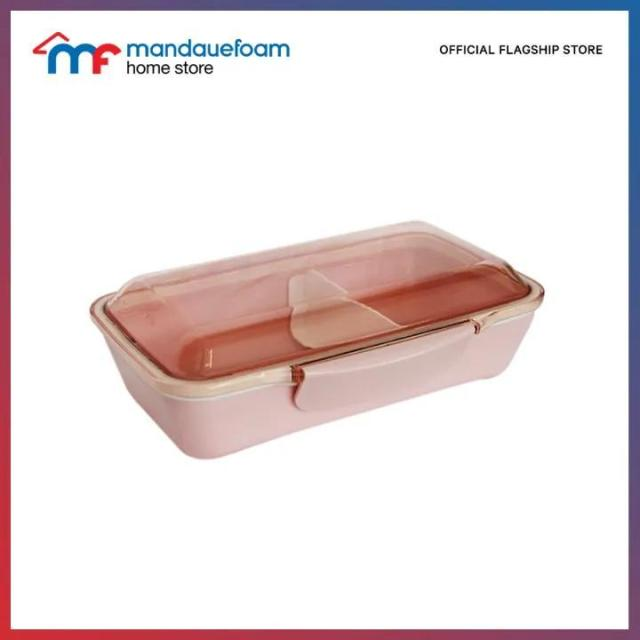styrofoam: (88, 217, 545, 459)
